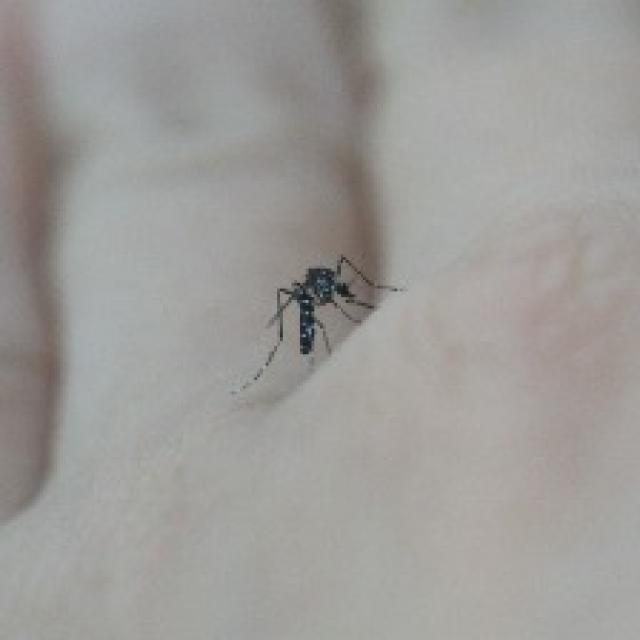aedes: (228, 249, 406, 394)
